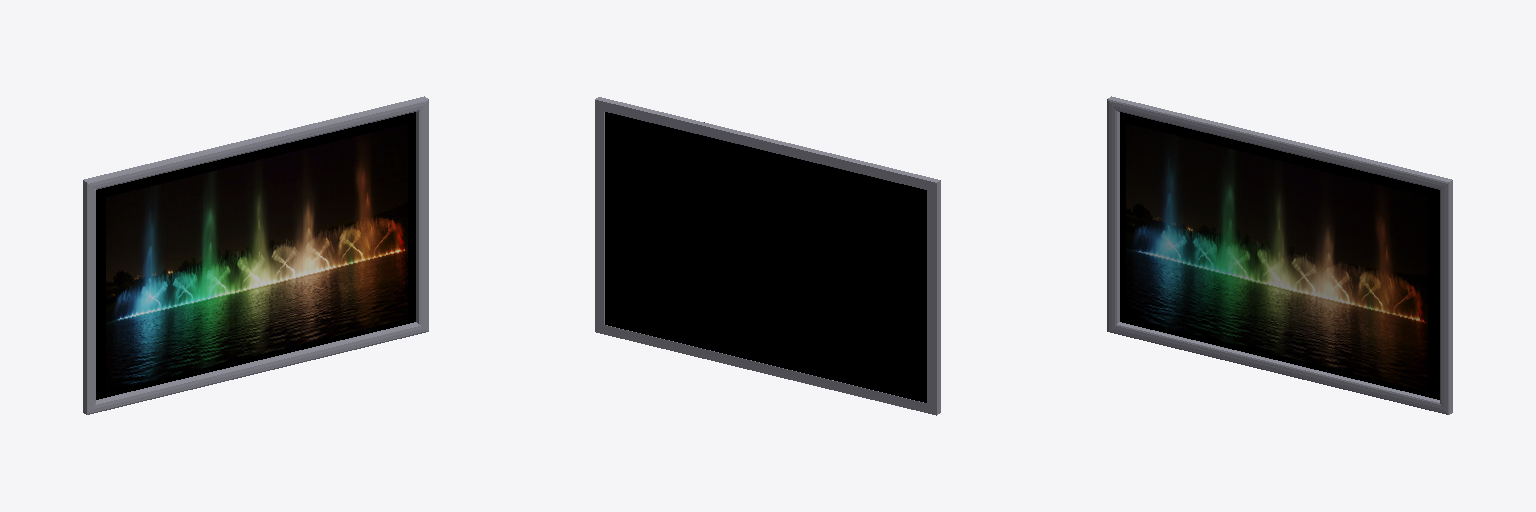
3 views of the same model, side by side, from view 1: azimuth 30°, elevation 25°; view 2: azimuth 150°, elevation 25°; view 3: azimuth 330°, elevation 25° (orthographic).
Parts seen in each view (by area): view 1: Photo_Cube_Material_ColoredFountain, MetalFrame_Cylinder_Aluminium.001, Frame_Black_Material.002; view 2: Frame_Black_Material.002, MetalFrame_Cylinder_Aluminium.001; view 3: Photo_Cube_Material_ColoredFountain, MetalFrame_Cylinder_Aluminium.001, Frame_Black_Material.002.
Boxes of the visible parts, <box> form: Photo_Cube_Material_ColoredFountain: <box>106,124,407,391</box>; MetalFrame_Cylinder_Aluminium.001: <box>83,96,428,414</box>; Frame_Black_Material.002: <box>96,112,415,399</box>; Frame_Black_Material.002: <box>605,112,926,402</box>; MetalFrame_Cylinder_Aluminium.001: <box>595,97,940,415</box>; Photo_Cube_Material_ColoredFountain: <box>1126,123,1427,390</box>; MetalFrame_Cylinder_Aluminium.001: <box>1107,96,1452,414</box>; Frame_Black_Material.002: <box>1120,112,1439,399</box>.
Size of the model in its own units: 73.53 by 47.86 by 1.6.
3 materials, 1 textured.